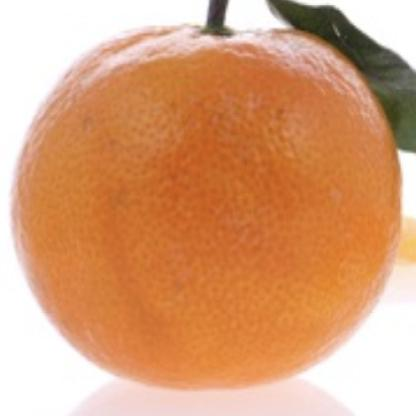fresh: (14, 26, 403, 398)
